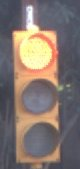Red: (9, 25, 62, 164)
